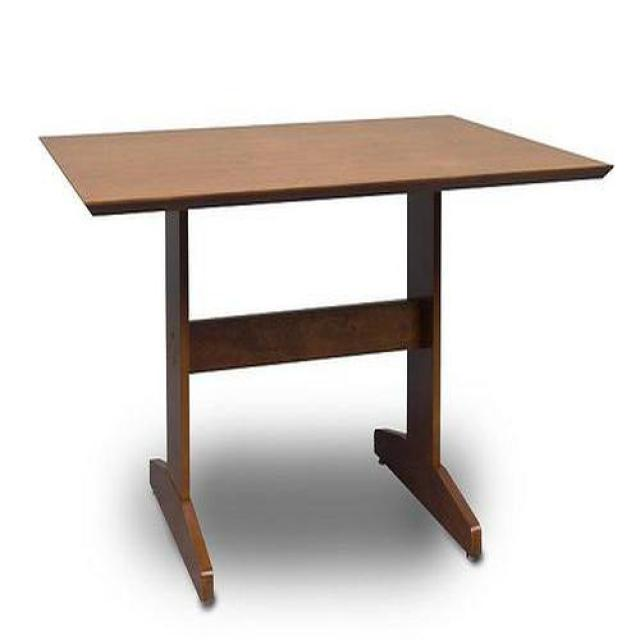table: (40, 115, 614, 608)
